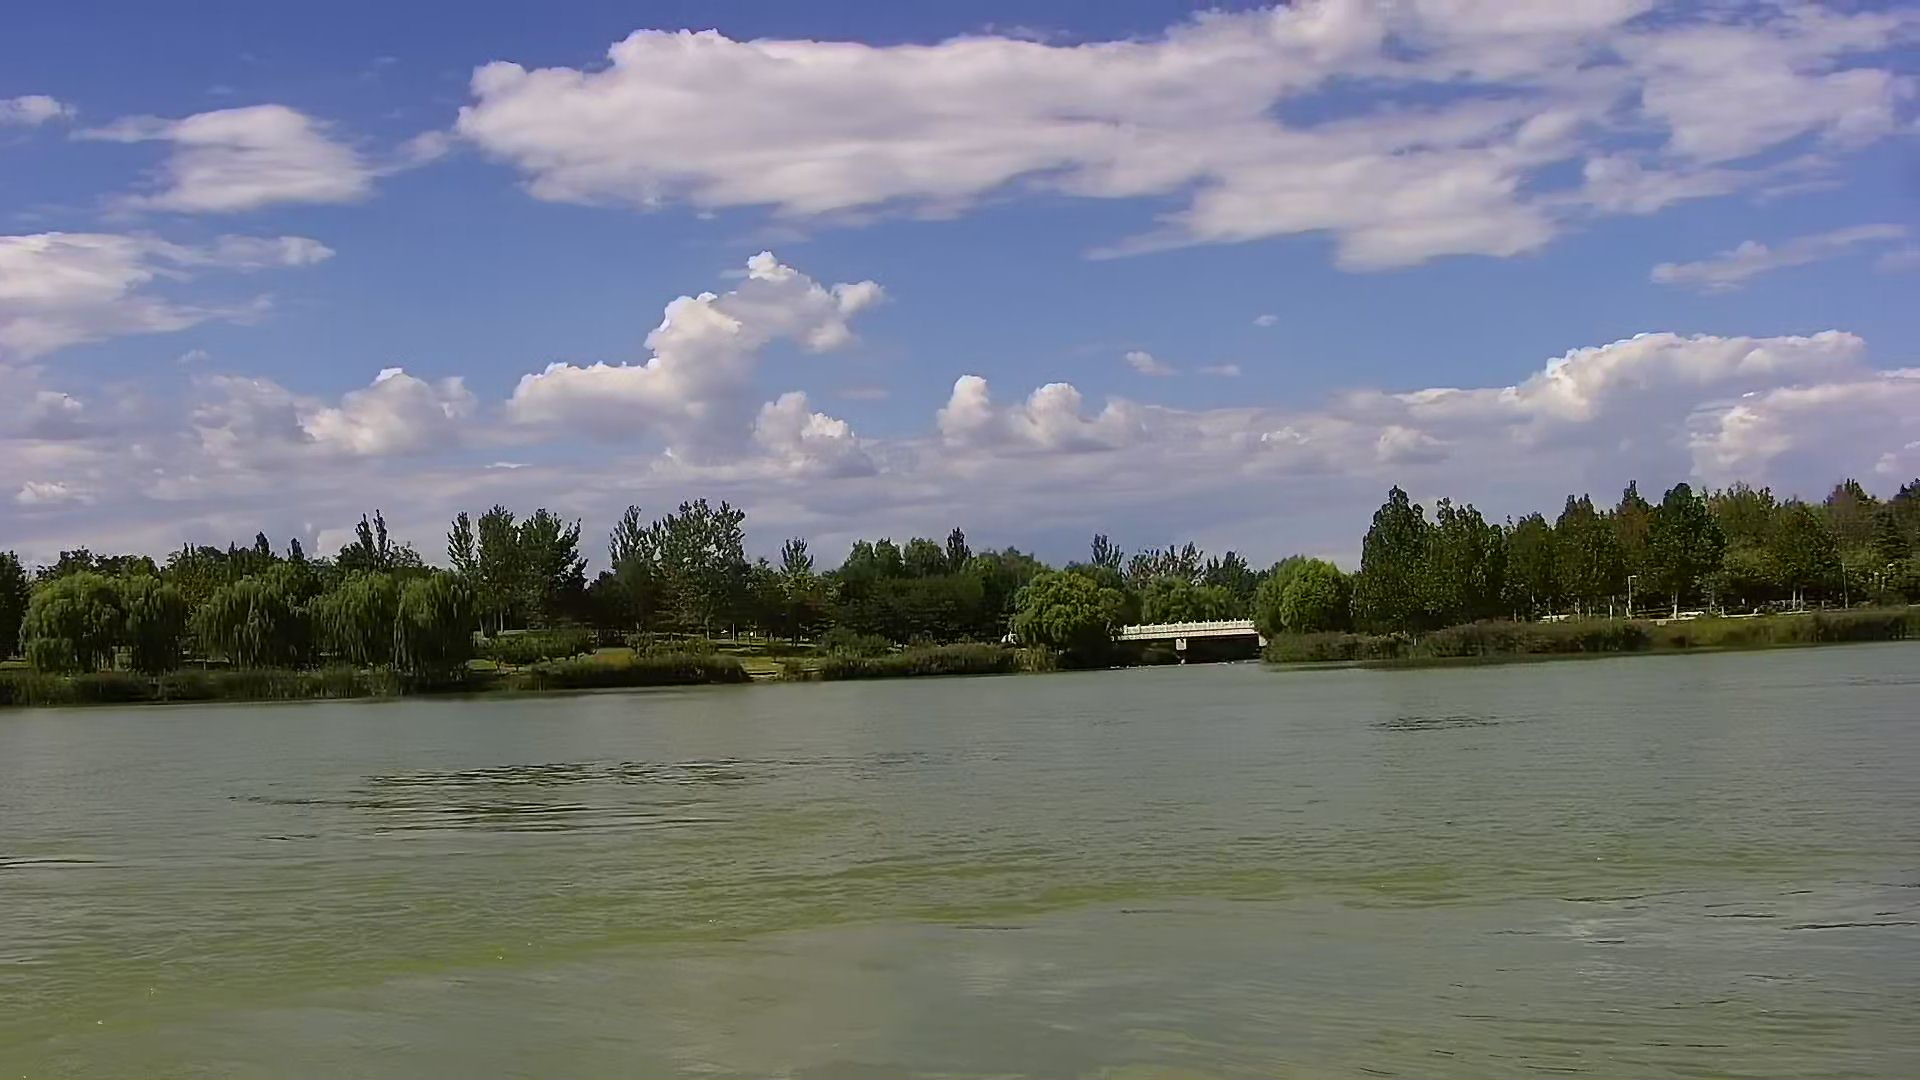bridge: (1126, 616, 1255, 658)
